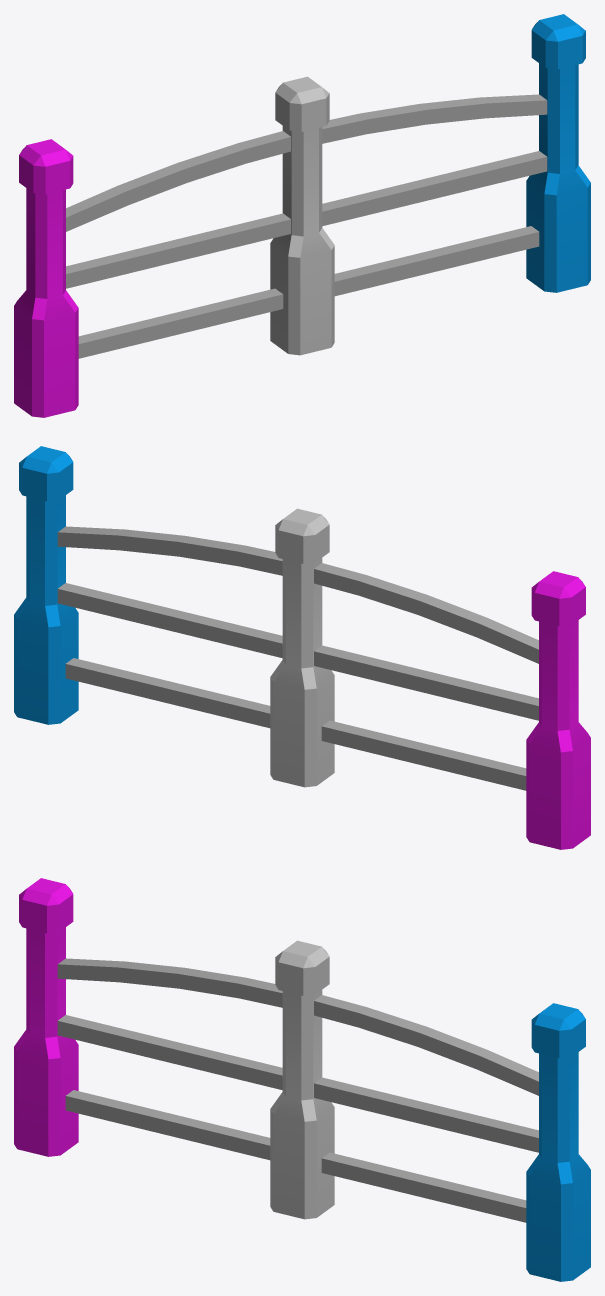
Rendered from fenceTile.fbx.
The picture shows the model from 3 angles, top to bottom: view 1: azimuth 30°, elevation 25°; view 2: azimuth 150°, elevation 25°; view 3: azimuth 330°, elevation 25°; orthographic projection.
Parts seen in each view (by area): view 1: fenceTile; view 2: fenceTile; view 3: fenceTile.
Part boxes in pixels (box(x1,y1,x2,y2)): fenceTile: box(14, 14, 590, 417); fenceTile: box(14, 446, 590, 849); fenceTile: box(14, 878, 590, 1281).
Bounding box in the file's own units: 240 × 105 × 20.
